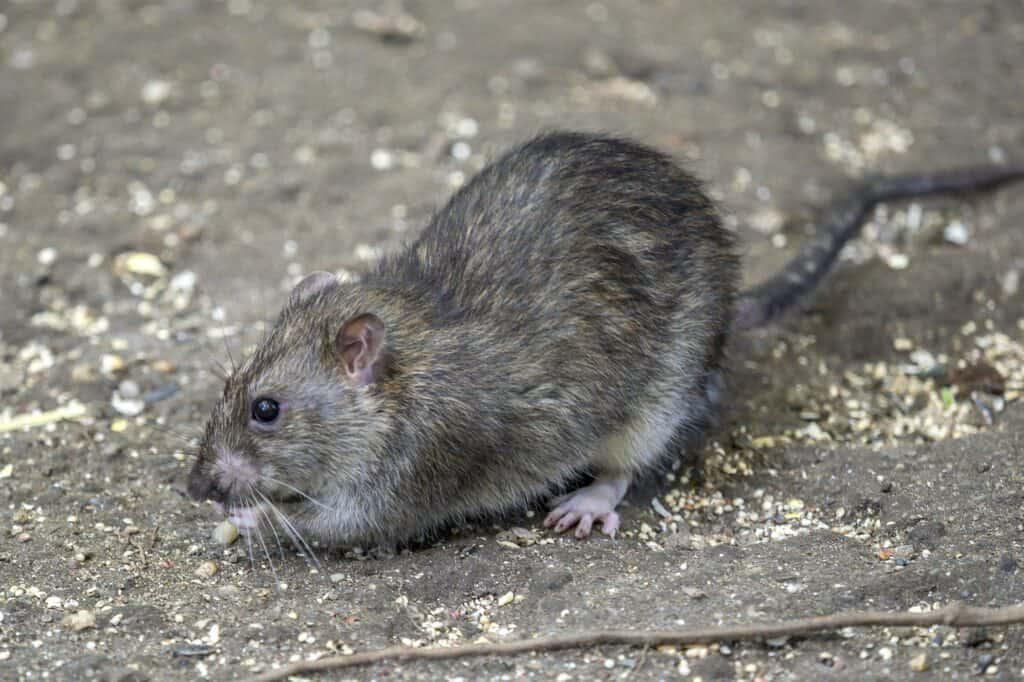rat: (187, 126, 1024, 545)
